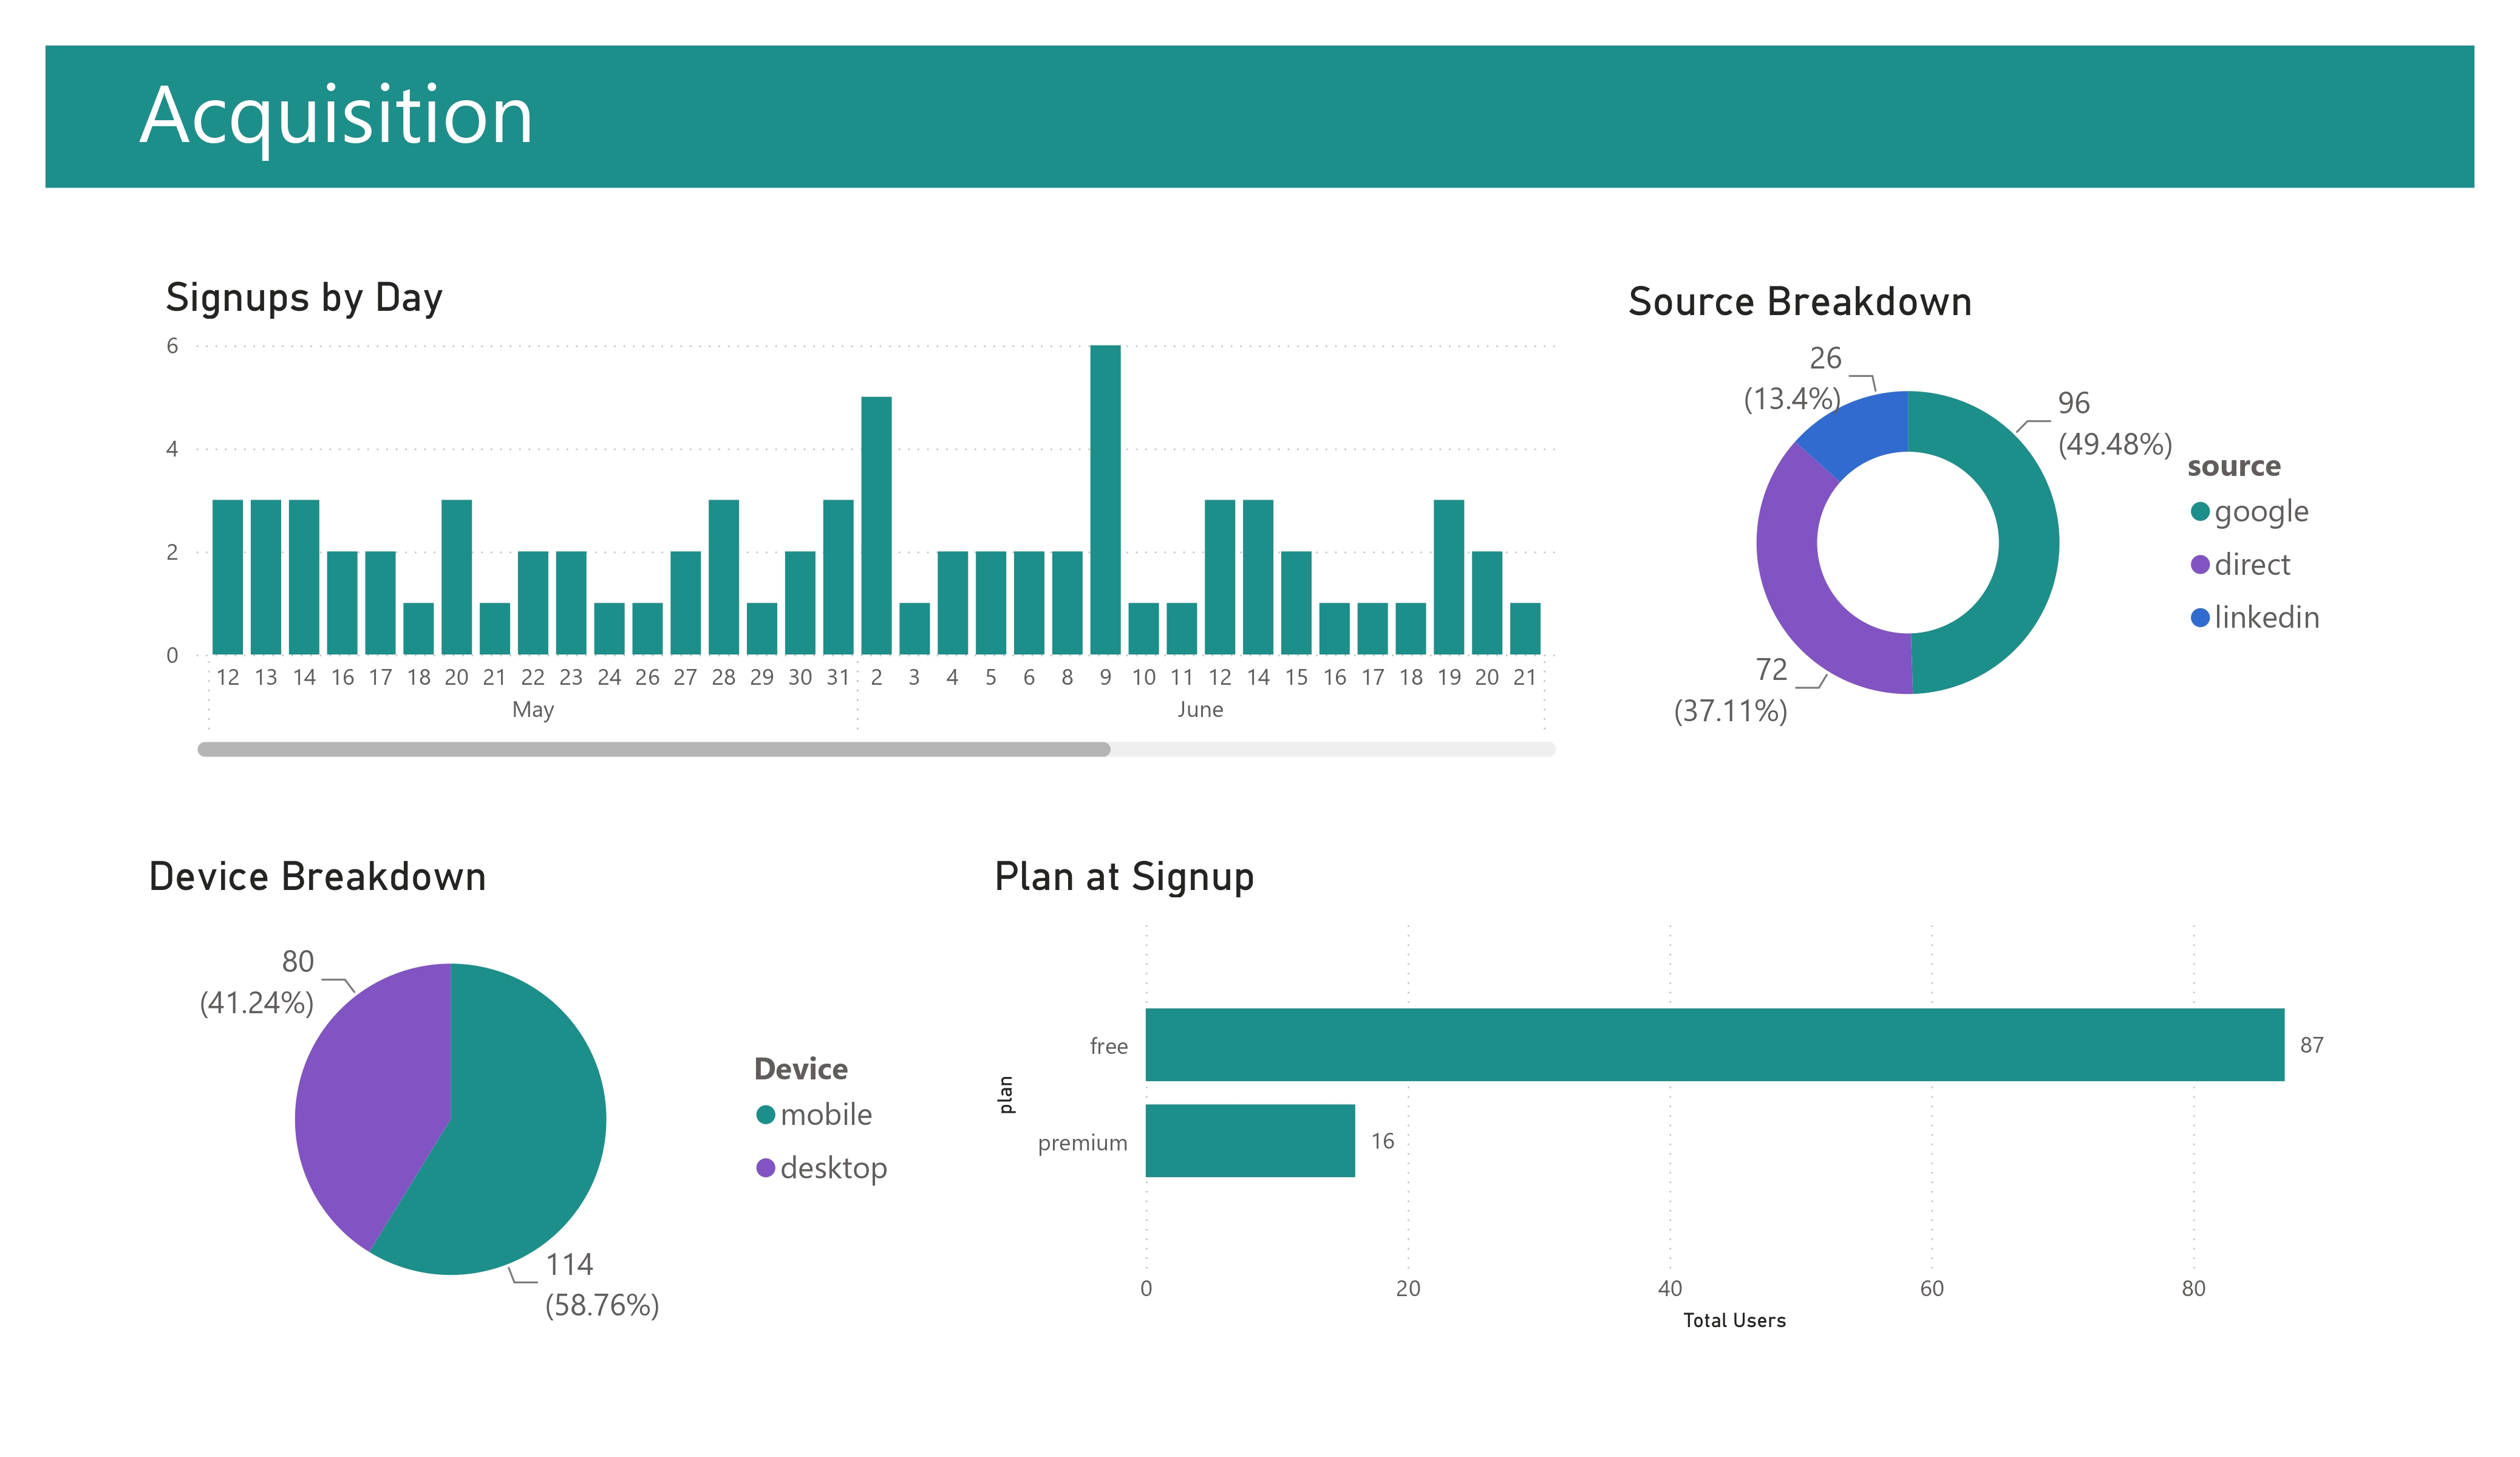

What the dashboard file says about the page in this screenshot:
{"tool":"powerbi","page":{"name":"Acquisition","canvas":[1280,720],"ordinal":1},"visuals":[{"type":"textbox","box":[0,0,1280.3,75.5],"z":0},{"type":"clusteredColumnChart","title":"Signups by Day","fields":{"Y":["users.Total Users"],"Category":["users.created_at.Variation.Date Hierarchy.Month","users.created_at.Variation.Date Hierarchy.Day"]},"box":[53.8,116.2,751.2,267.5],"z":1000},{"type":"donutChart","title":"Source Breakdown","fields":{"Category":["sessions.source"],"Y":["CountNonNull(sessions.session_start)"]},"box":[822.5,116.2,396.2,267.5],"z":2000},{"type":"pieChart","title":"Device Breakdown","fields":{"Category":["sessions.device"],"Y":["CountNonNull(sessions.session_start)"]},"box":[42.5,418.8,421.2,270],"z":3000},{"type":"clusteredBarChart","title":"Plan at Signup","fields":{"Category":["users.plan"],"Y":["users.Total Users"]},"box":[488.8,418.8,730,270],"z":4000}]}

Visuals, with their boxes on the page's 1280x720 design canvas (x1, y1, x2, y2). These are canvas units, not pixel positions in the 2520x1457 screenshot, which may show the page scaled, cropped or inside an application window:
textbox: box=[0, 0, 1280, 76]
"Signups by Day" clusteredColumnChart: box=[54, 116, 805, 384]
"Source Breakdown" donutChart: box=[822, 116, 1219, 384]
"Device Breakdown" pieChart: box=[42, 419, 464, 689]
"Plan at Signup" clusteredBarChart: box=[489, 419, 1219, 689]
